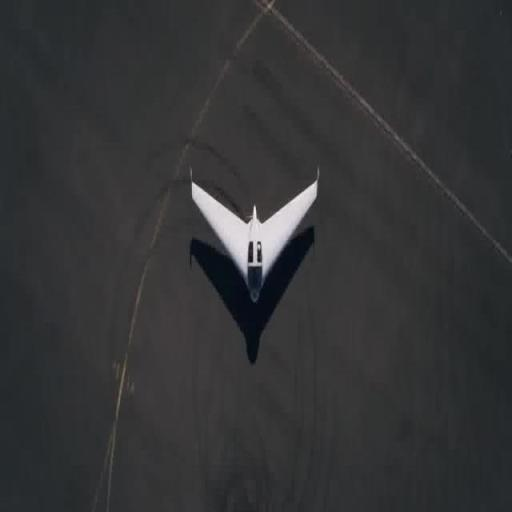uav: (185, 160, 324, 314)
